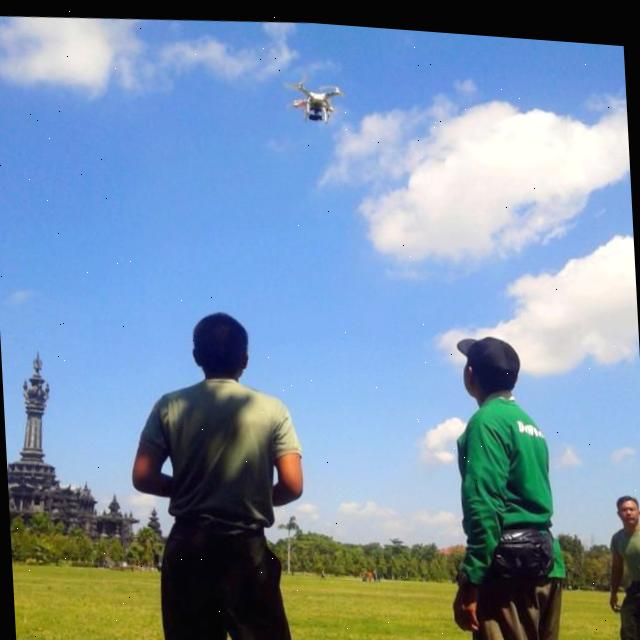drone: (280, 68, 344, 122)
